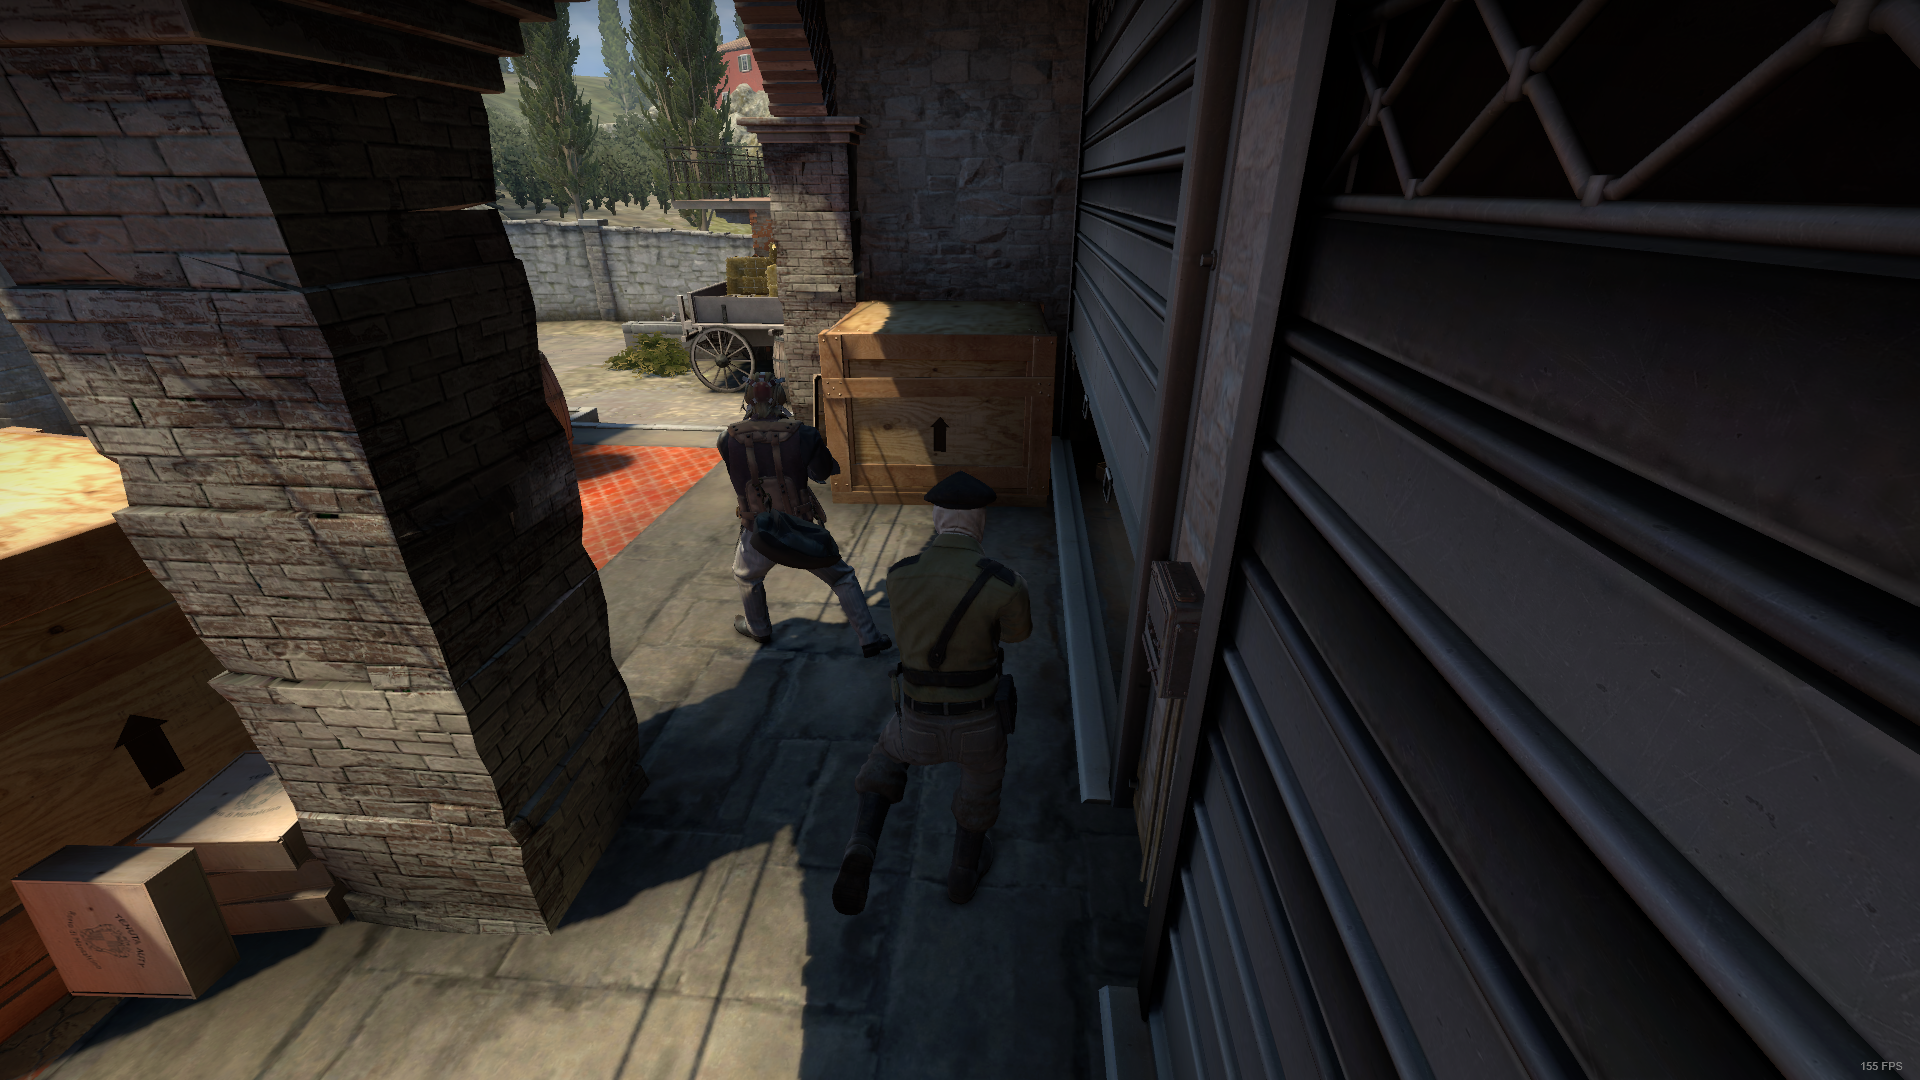t: (832, 473, 1034, 905)
